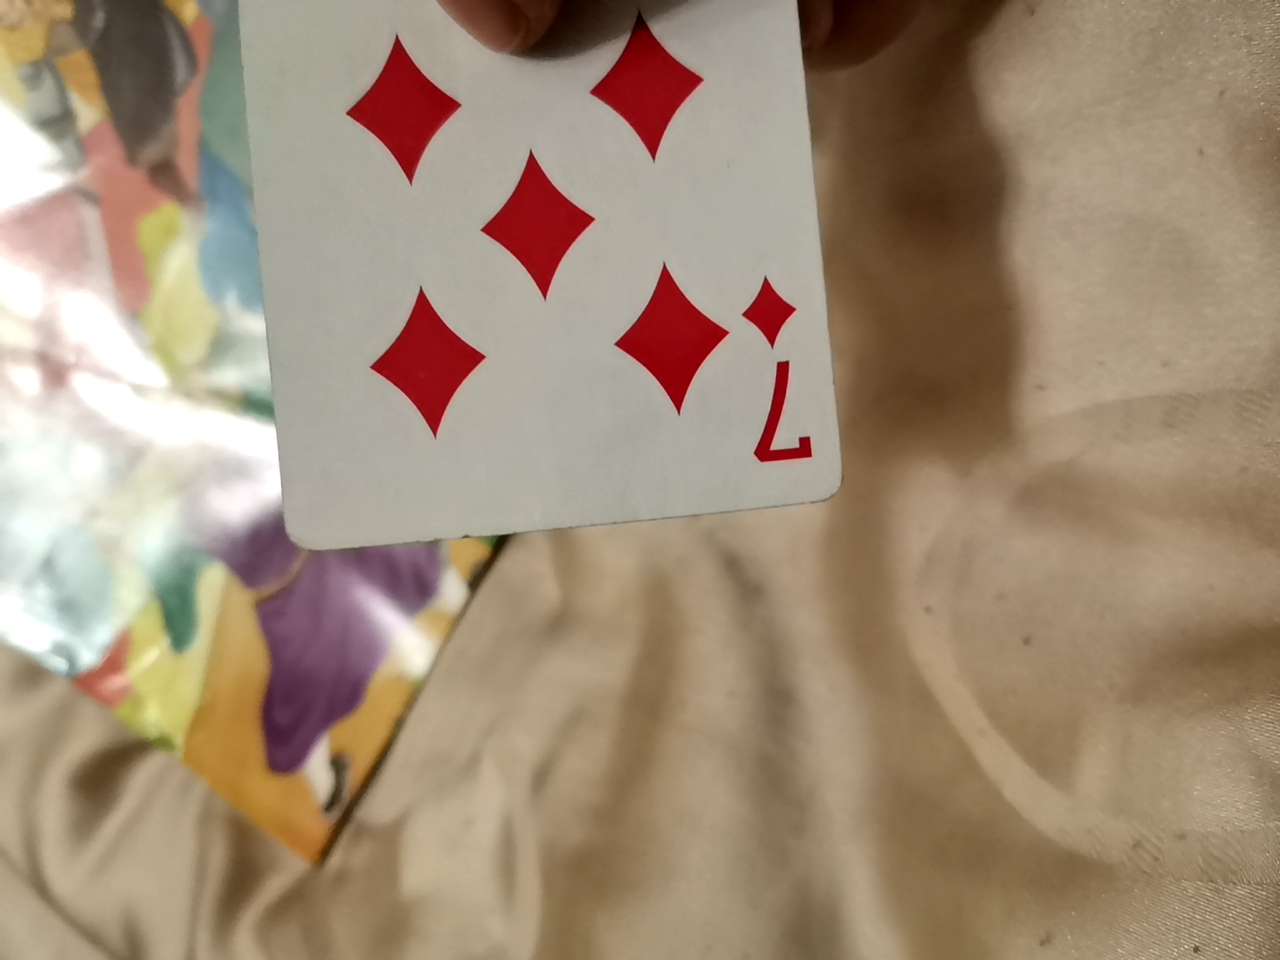fk 7: (232, 0, 831, 557)
